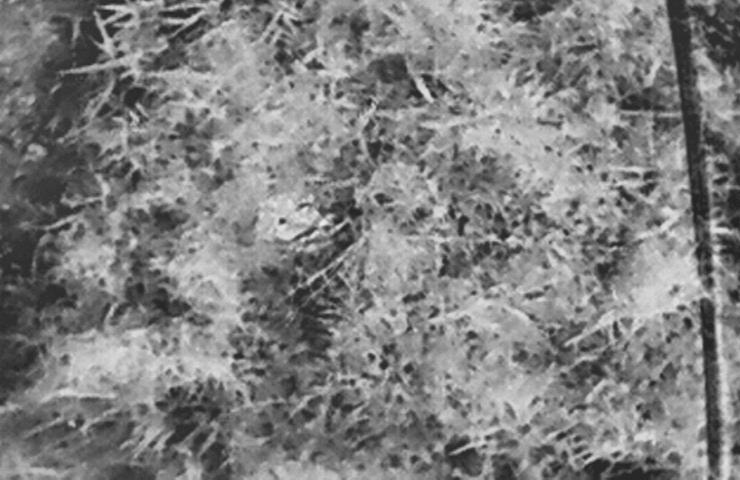landmines: (256, 186, 327, 248)
